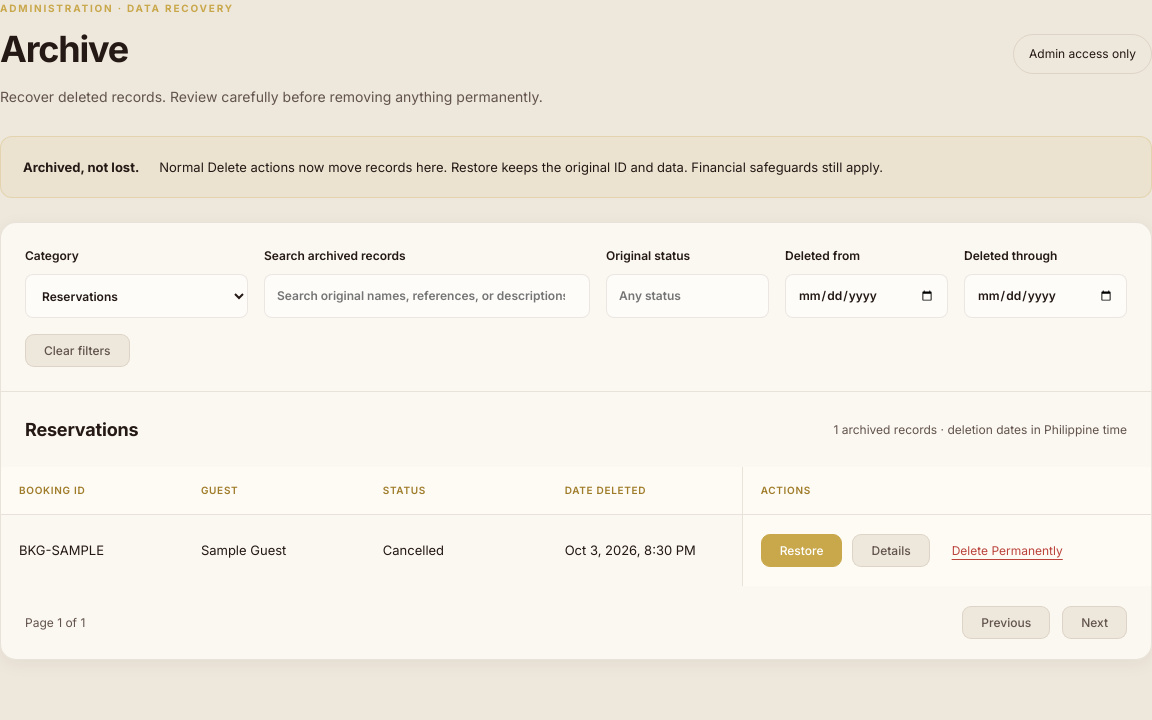
Test: restore failure keeps the dialog and record available with a helpful error
The width and height of the screenshot is (1152, 720).
What coordinates should you click on to do the following:
click the button "Restore"
I would click on:
 (802, 551)
Its box is x1=761 y1=534 x2=842 y2=568.
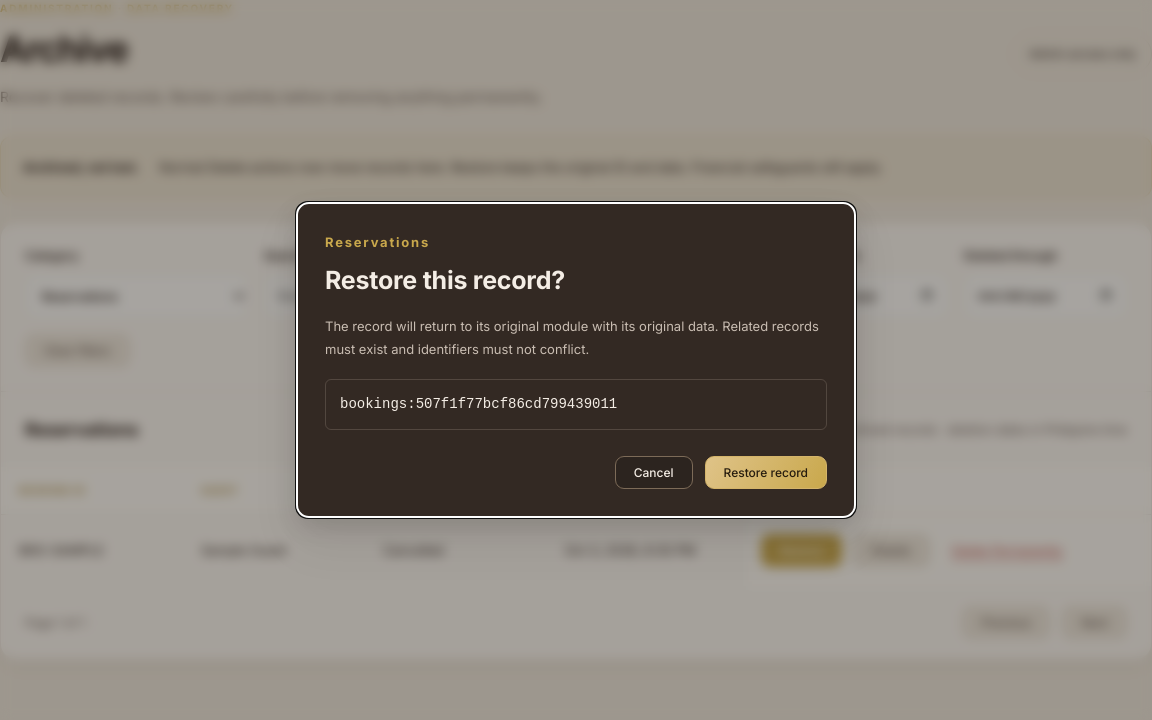
What coordinates should you click on to do the following:
click the button "Restore record"
I would click on:
 (766, 472)
Its box is x1=704 y1=456 x2=827 y2=489.
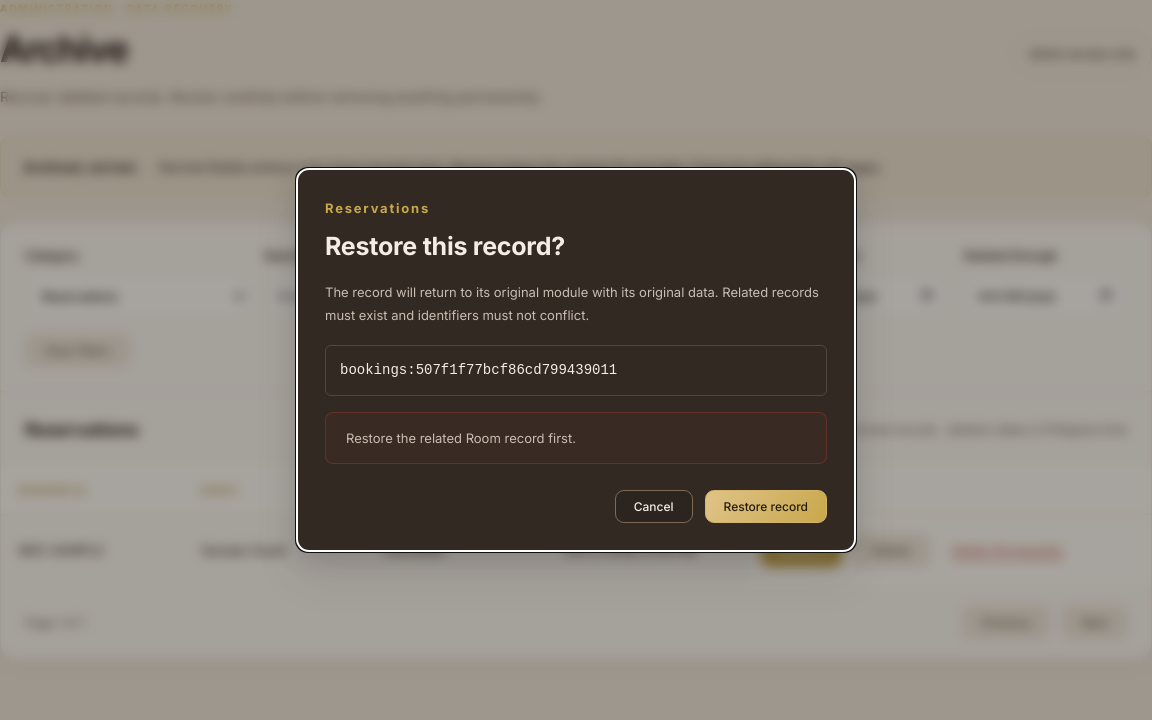
Expected: the text "BKG-SAMPLE" is shown, x1=19 y1=542 x2=104 y2=558
Expected: the message shows "related Room", x1=346 y1=430 x2=576 y2=446
